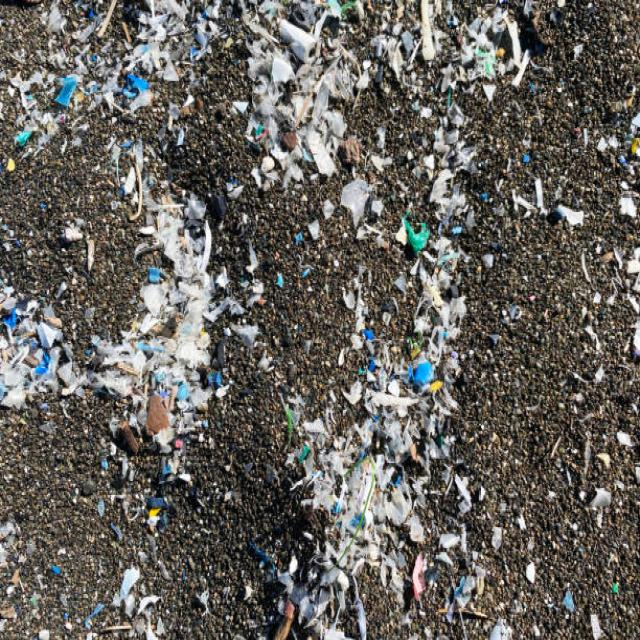plastic: (319, 361, 504, 593)
